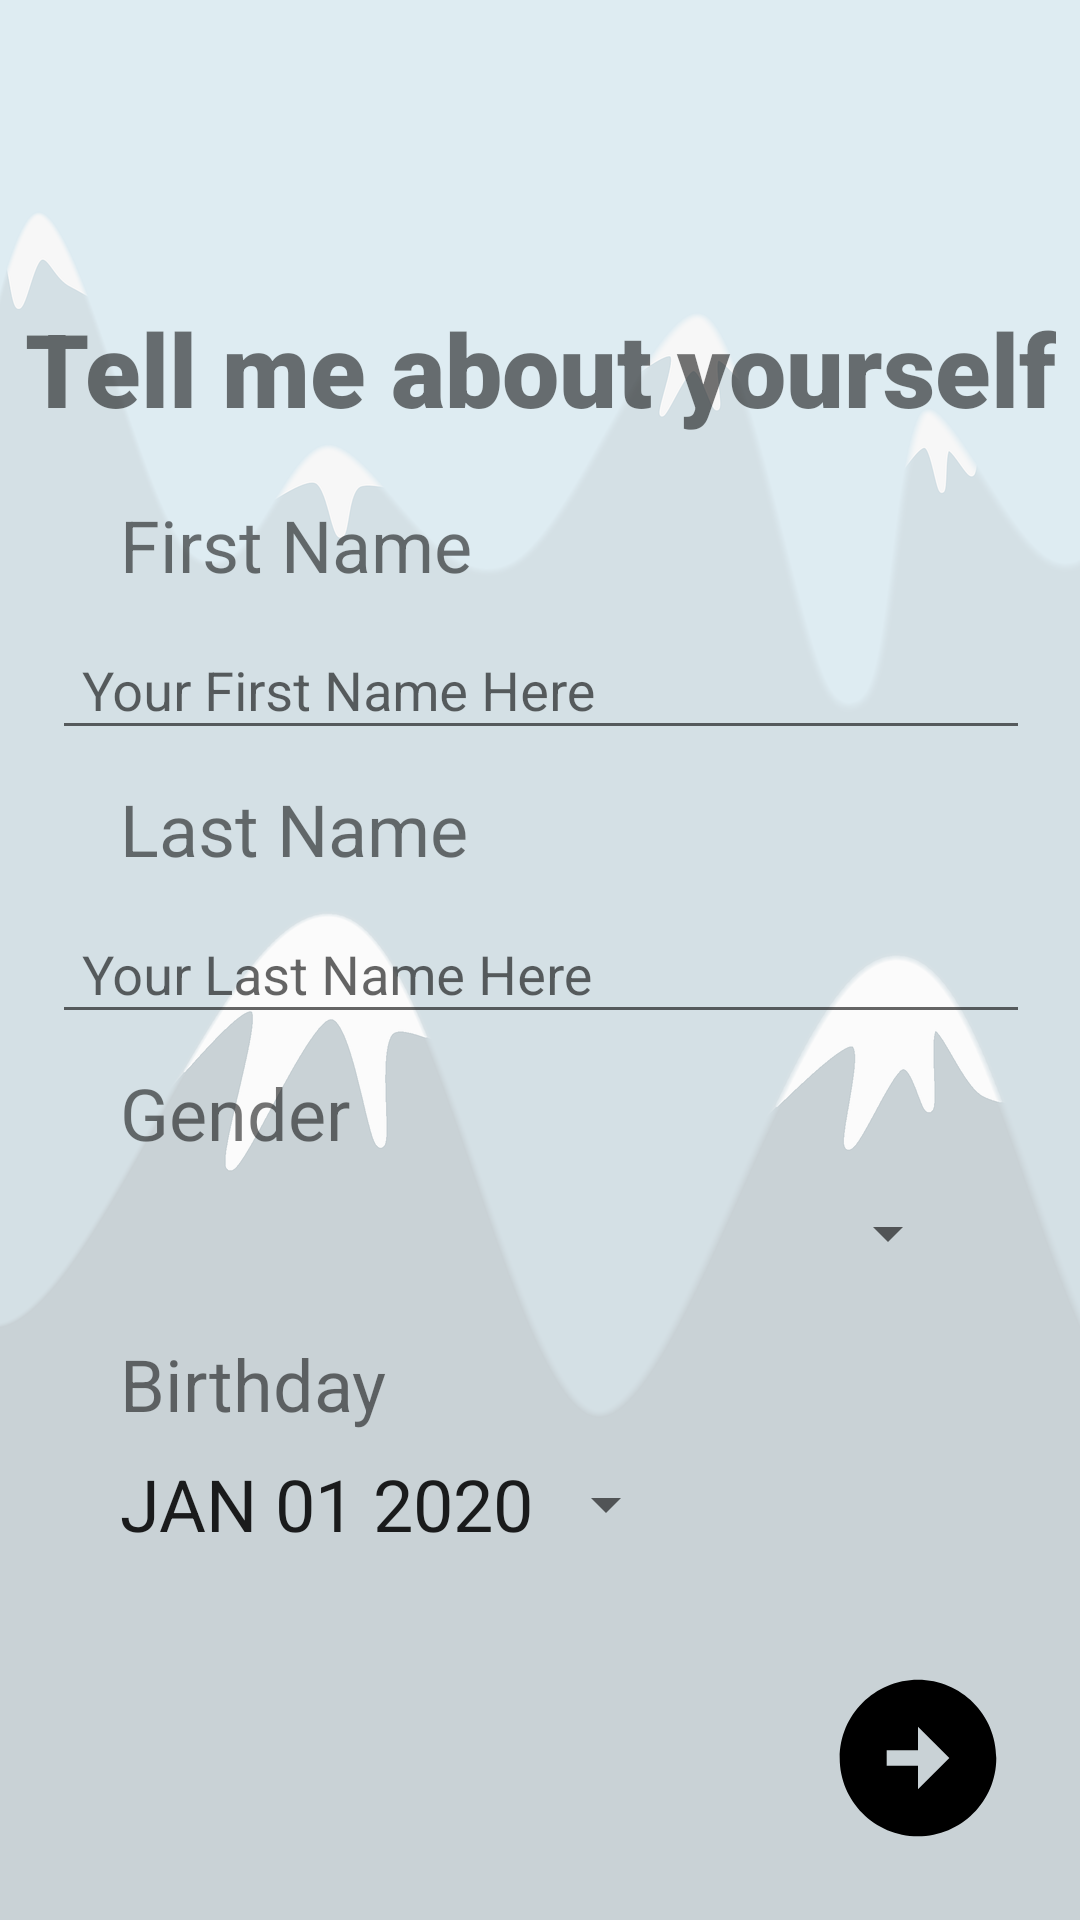

Icons on this 1080x1920 Android screen, each with its box as (x1, y1, x2, y2):
next: (839, 1679, 997, 1837)
